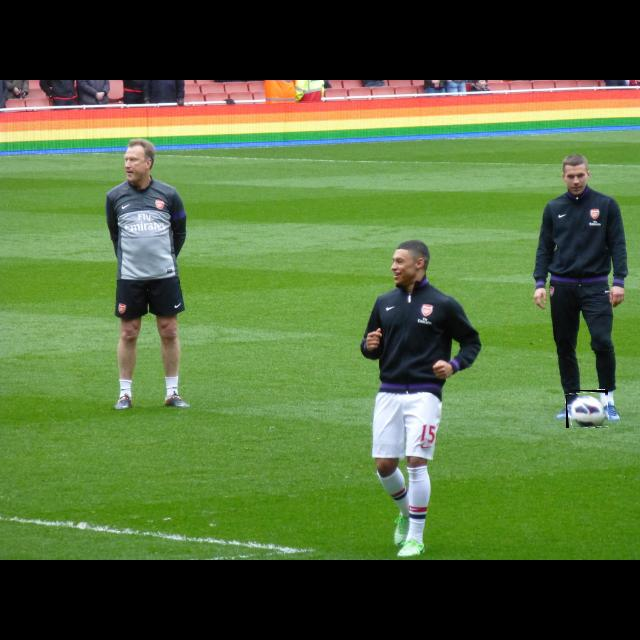Football: (566, 390, 608, 428)
